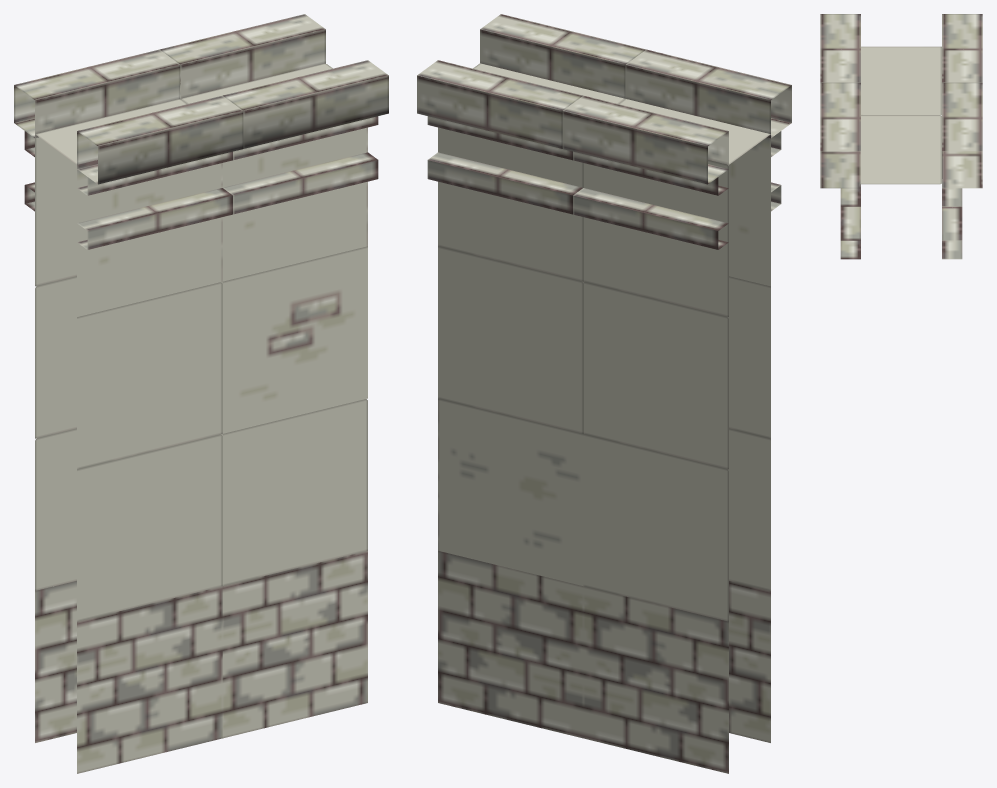
The model's file is stone_wall_thin.fbx.
3 renders of one model, left to right at view 1: azimuth 30°, elevation 25°; view 2: azimuth 150°, elevation 25°; view 3: azimuth 270°, elevation 25°, orthographic. The views are drawn at different scales.
Parts seen in each view (by area): view 1: stone_wall_thin; view 2: stone_wall_thin; view 3: stone_wall_thin.
Boxes of the visible parts, x1,y1,x2,y2 form: stone_wall_thin: (14, 14, 388, 773); stone_wall_thin: (417, 14, 791, 773); stone_wall_thin: (820, 14, 982, 259).
Bounding box in the file's own units: 200 × 422 × 100.
